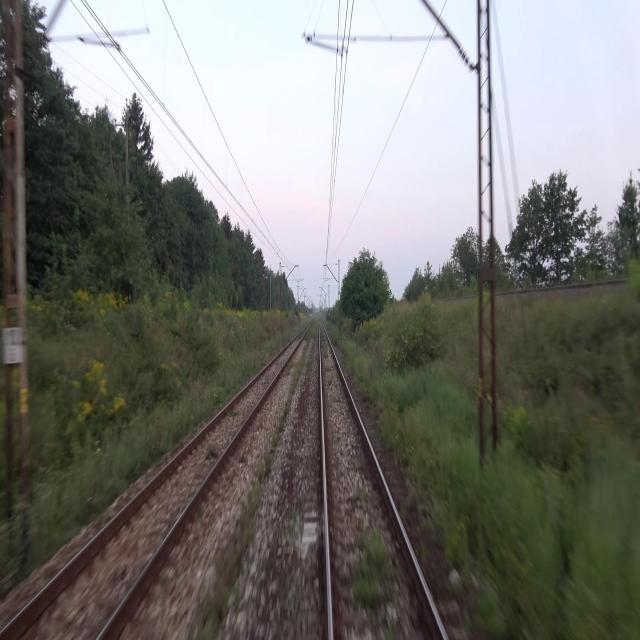rail-track: (1, 331, 304, 639), (320, 322, 442, 639)
